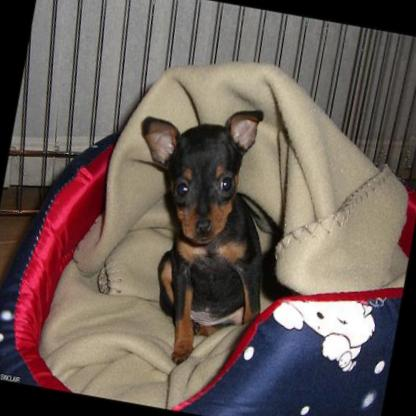miniature_pinscher: (96, 83, 294, 375)
